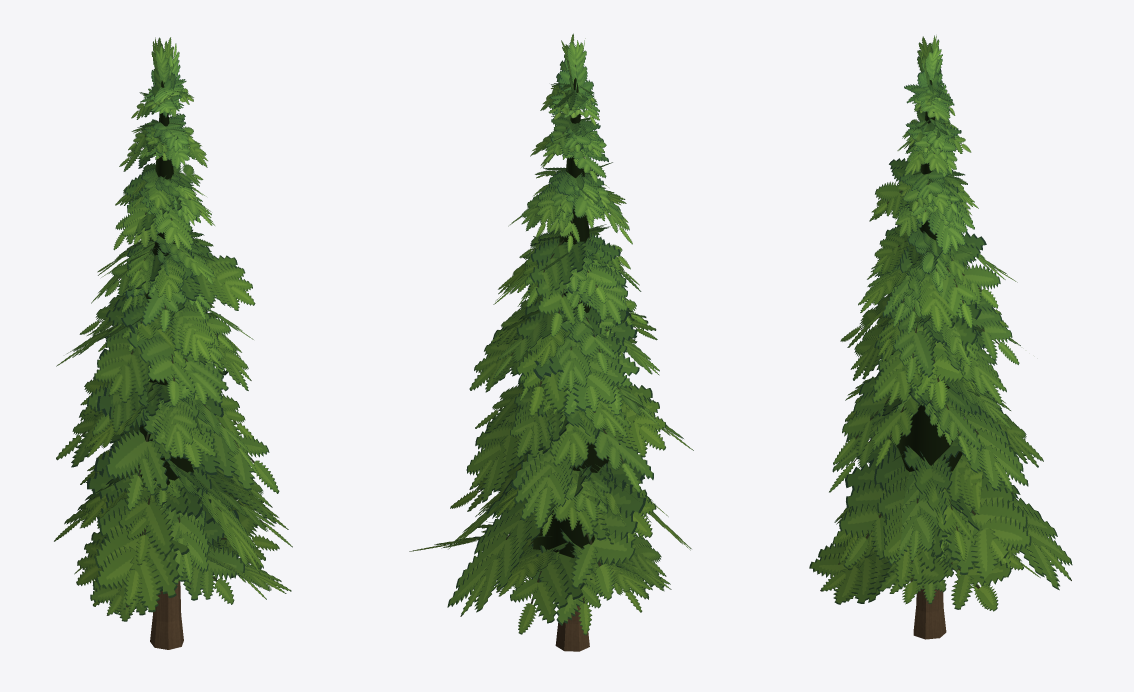
The model's file is fir4_a.glb.
3 views of the same model, side by side, from view 1: azimuth 30°, elevation 25°; view 2: azimuth 150°, elevation 25°; view 3: azimuth 270°, elevation 25° (orthographic). The views are drawn at different scales.
Visible parts, largest first — view 1: fir4_a; view 2: fir4_a; view 3: fir4_a.
Boxes of the visible parts, <box> form: fir4_a: <box>54,37,292,649</box>; fir4_a: <box>409,33,693,651</box>; fir4_a: <box>809,35,1072,639</box>.
Size of the model in its own units: 3.74 by 7.06 by 3.79.
2 materials, 2 textured.
